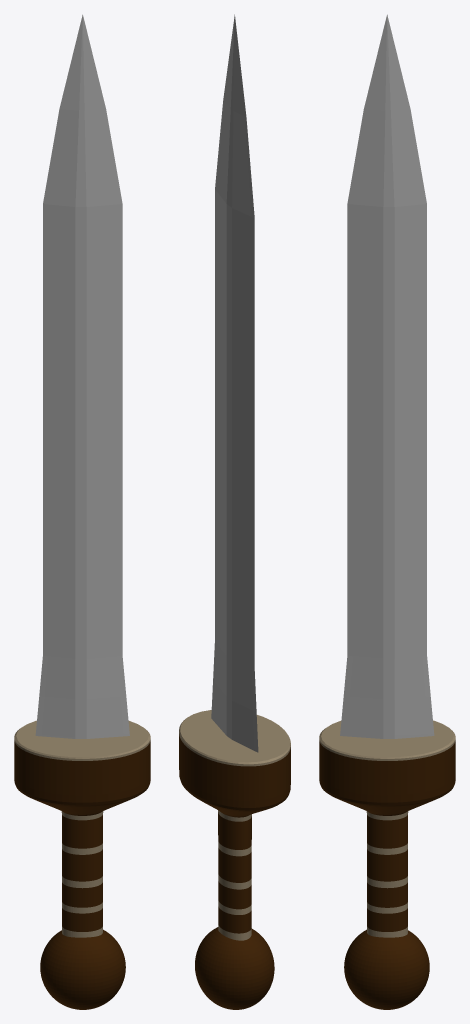
File: Sword.fbx
The picture shows the model from 3 angles, left to right: view 1: azimuth 90°, elevation 25°; view 2: azimuth 210°, elevation 25°; view 3: azimuth 270°, elevation 25°; orthographic projection.
Parts seen in each view (by area): view 1: Blade; view 2: Blade; view 3: Blade.
Part boxes in pixels (x1=…): Blade: x1=14, y1=14, x2=150, y2=1009; Blade: x1=179, y1=14, x2=290, y2=1009; Blade: x1=319, y1=14, x2=455, y2=1009.
Size of the model in its own units: 44.59 by 477 by 59.36.
